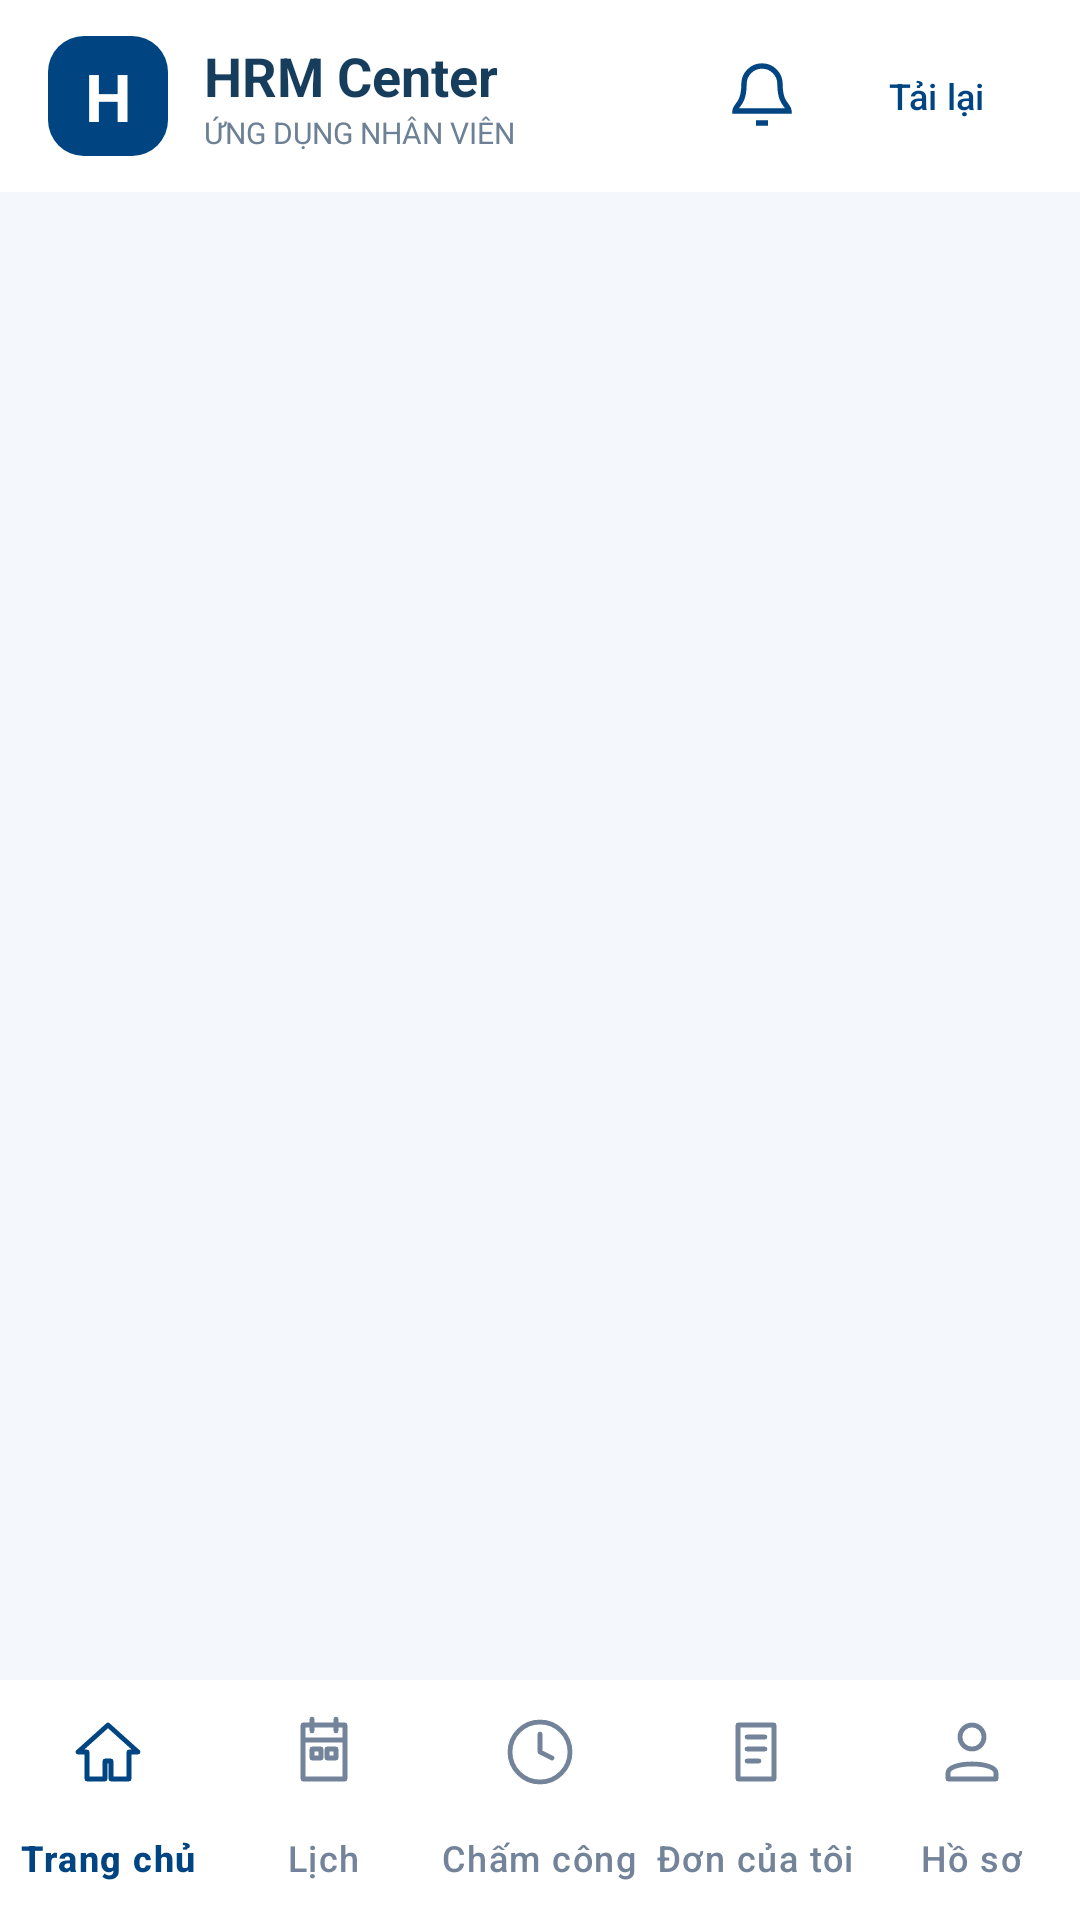

Where to tap for icons on this 1080×1920 app screen, as point (x, y):
Thông báo: point (762, 94)
